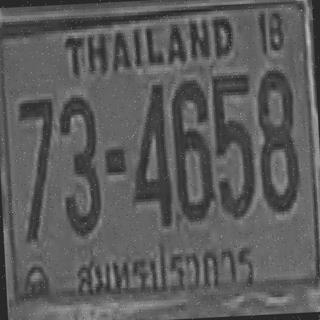N03: (58, 94, 101, 235)
N04: (128, 80, 171, 224)
N05: (210, 70, 255, 217)
N06: (170, 77, 214, 220)
N07: (16, 95, 58, 241)
N08: (254, 66, 300, 210)
P57: (72, 238, 258, 300)
